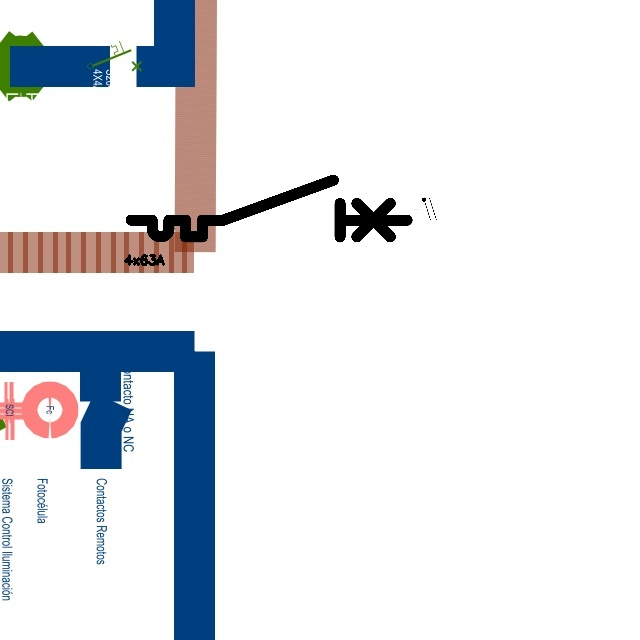interruptor_termomagnetico: (124, 173, 414, 244)
